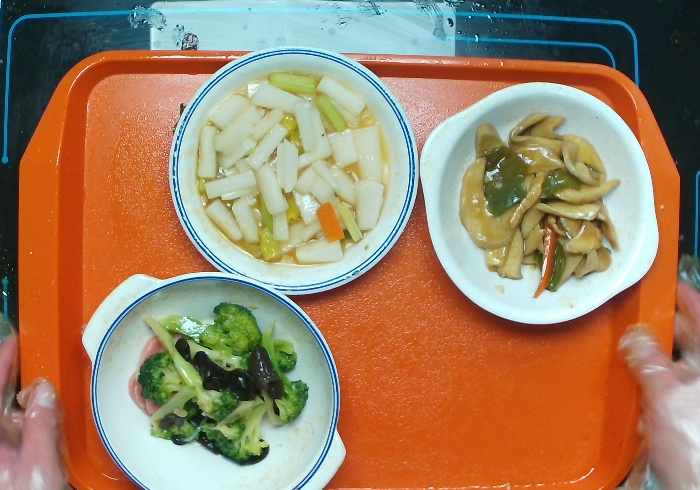HZYJPL-Dai_Er_Bai_Yuan_Wan: (417, 77, 663, 329)
HZYJPL-Lan_Bian_Dai_Er_Wan: (77, 269, 350, 490)
HZYJPL-Lan_Bian_Yuan_Die: (164, 42, 422, 301)
